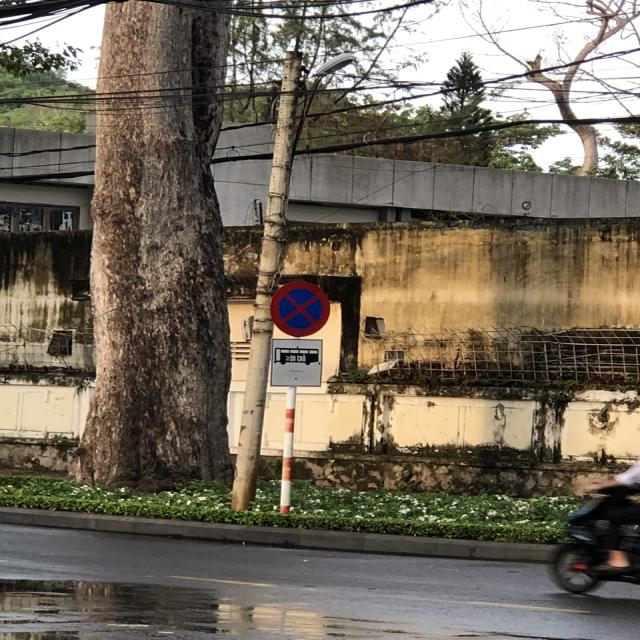Bien bao cam dung xe va do xe: (264, 274, 334, 337)
